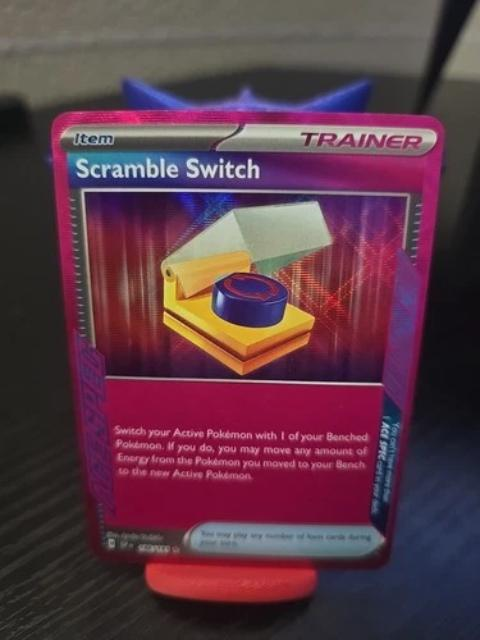Card: (46, 103, 450, 576)
Name: (69, 151, 264, 187)
